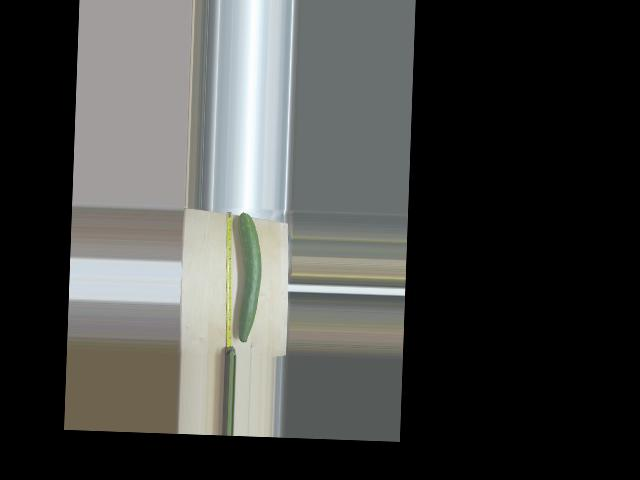cucumber: (233, 212, 263, 343)
